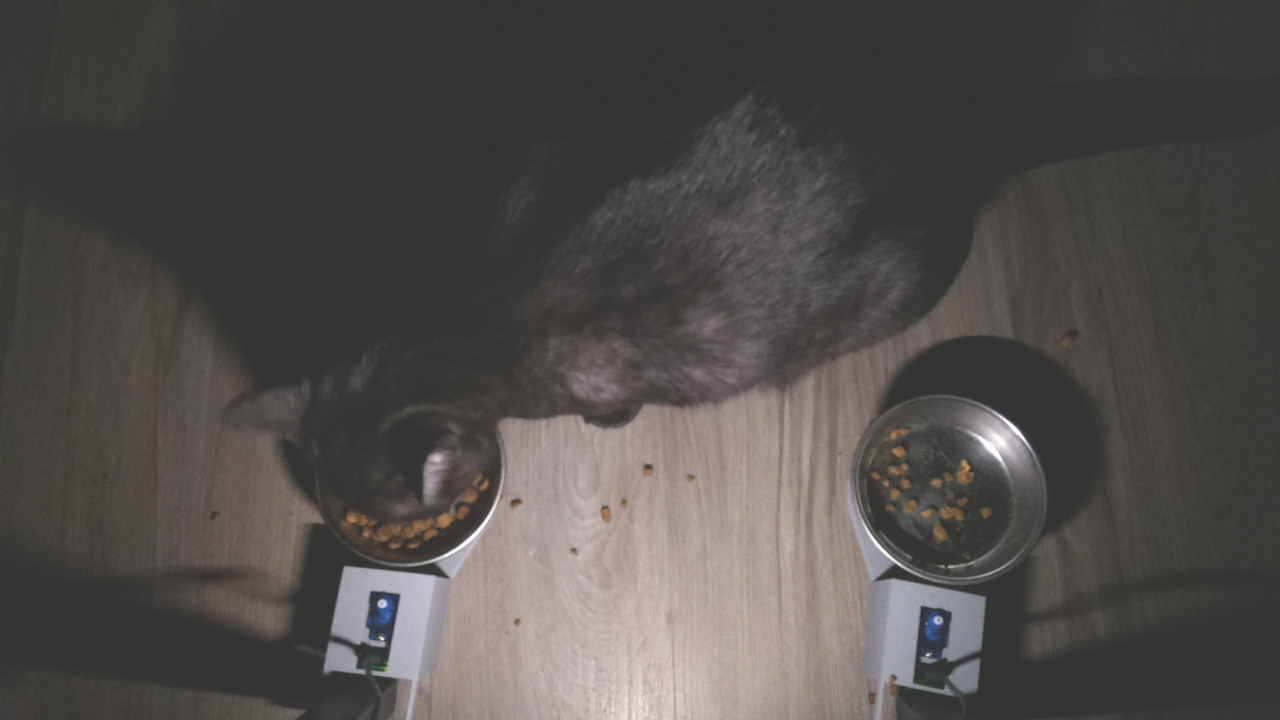open_bowl: (847, 392, 1055, 589)
saki_eating: (214, 326, 539, 579)
